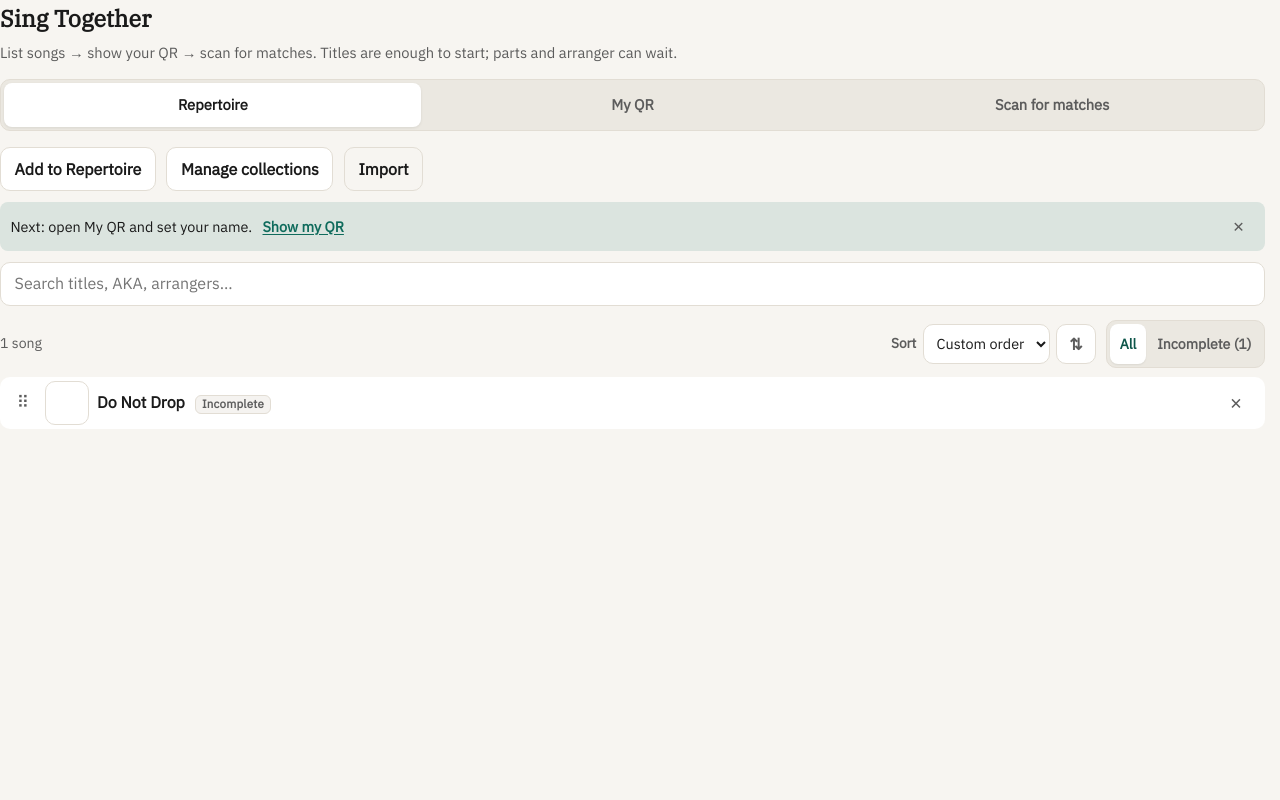
Test case: SingTogetherView usability phases › asks Are you sure? before deleting a song
Click the button with class "row-remove": click(1236, 403) [1216,383,1256,423]
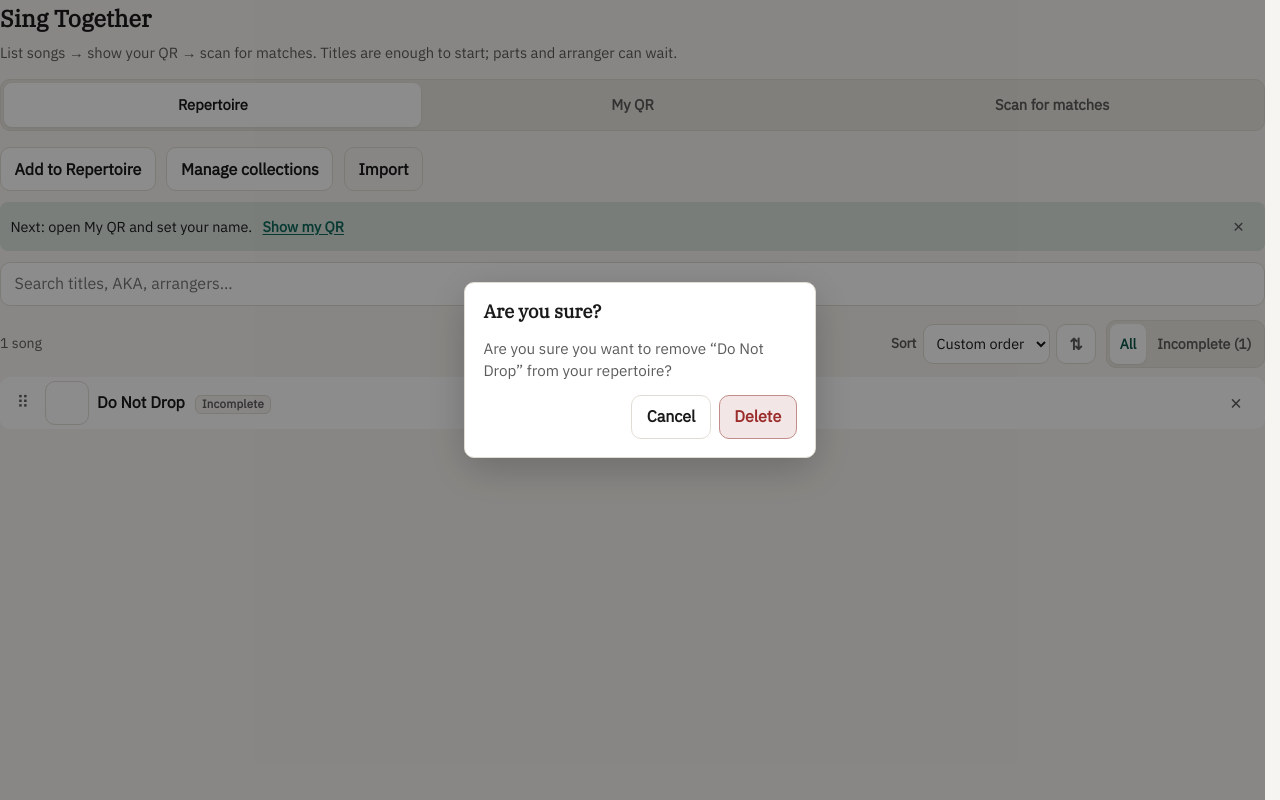
expect the dialog with class "confirm-root" is shown: met
expect the dialog with class "confirm-root" shows "Are you sure?": met, box [483,300,601,324]
expect the button with class "btn-danger" is shown: met
Click the button with class "btn-danger": click(758, 417) [719,395,797,439]
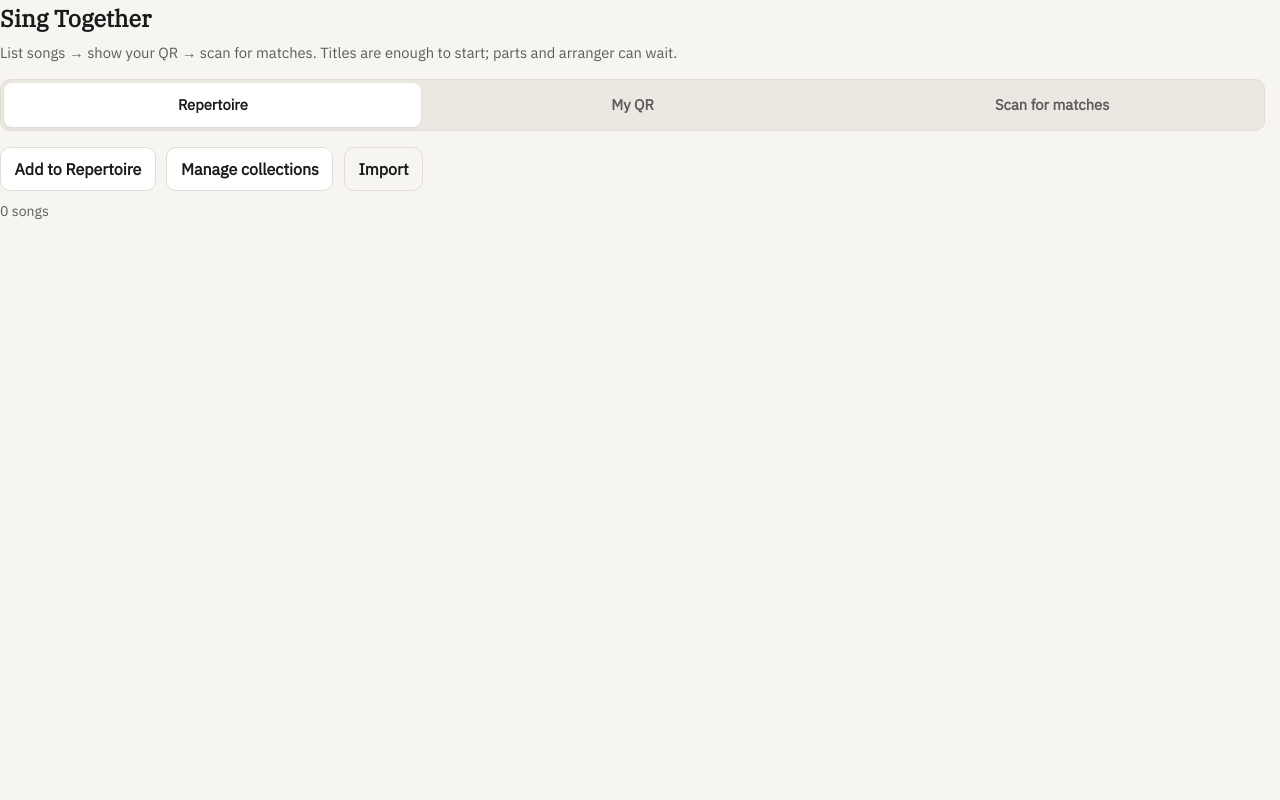
expect the dialog with class "confirm-root" is gone: met
